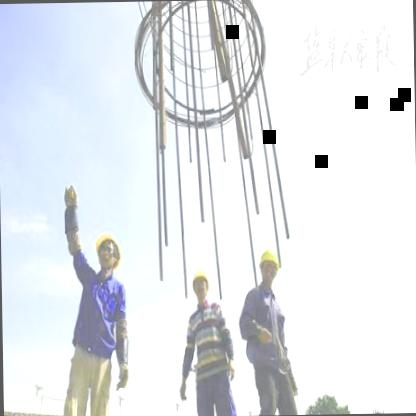helmet: (94, 229, 122, 275), (258, 242, 280, 286), (190, 266, 211, 302)
